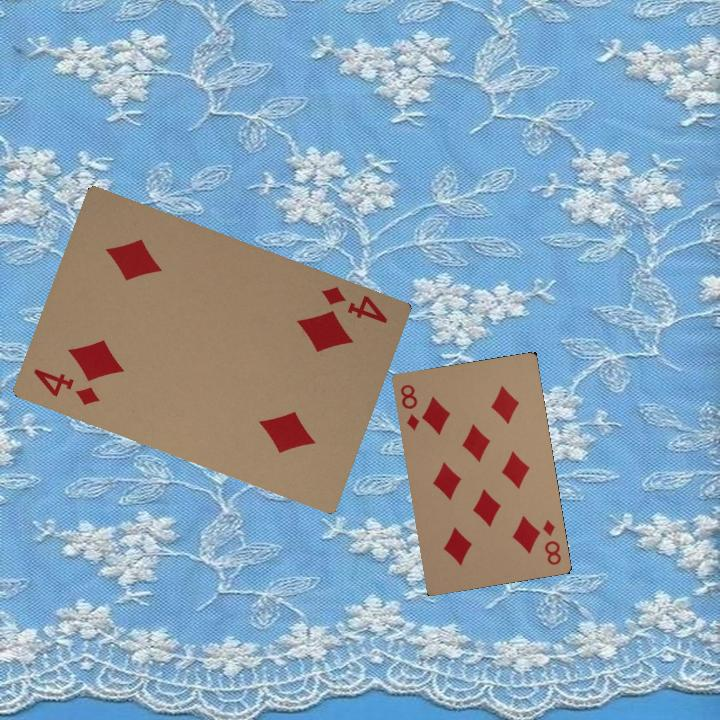4d: (29, 364, 102, 408), (317, 282, 390, 326)
8d: (396, 380, 422, 433), (539, 516, 564, 567)
